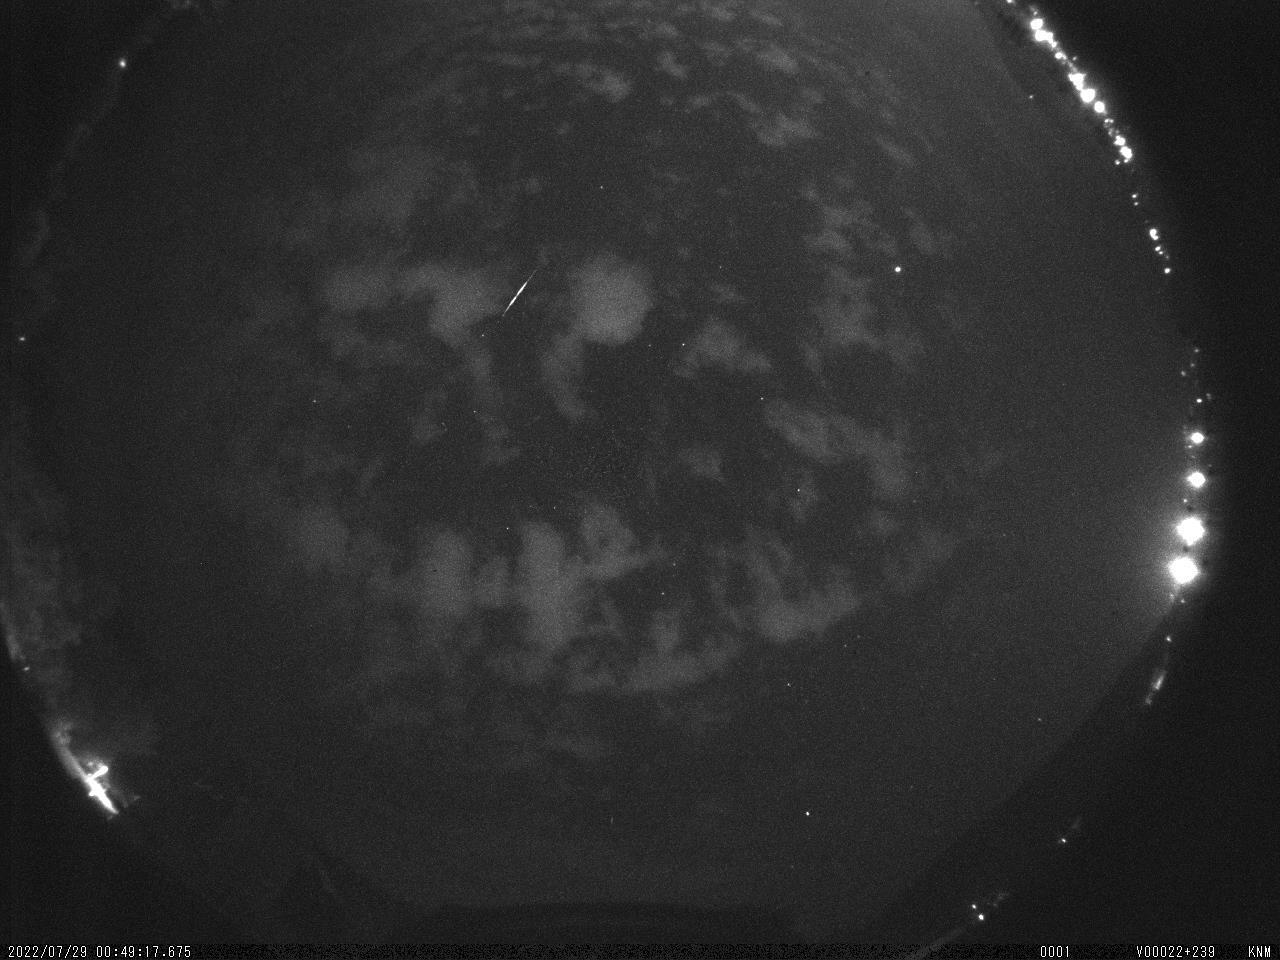Meteor: (494, 249, 552, 329)
